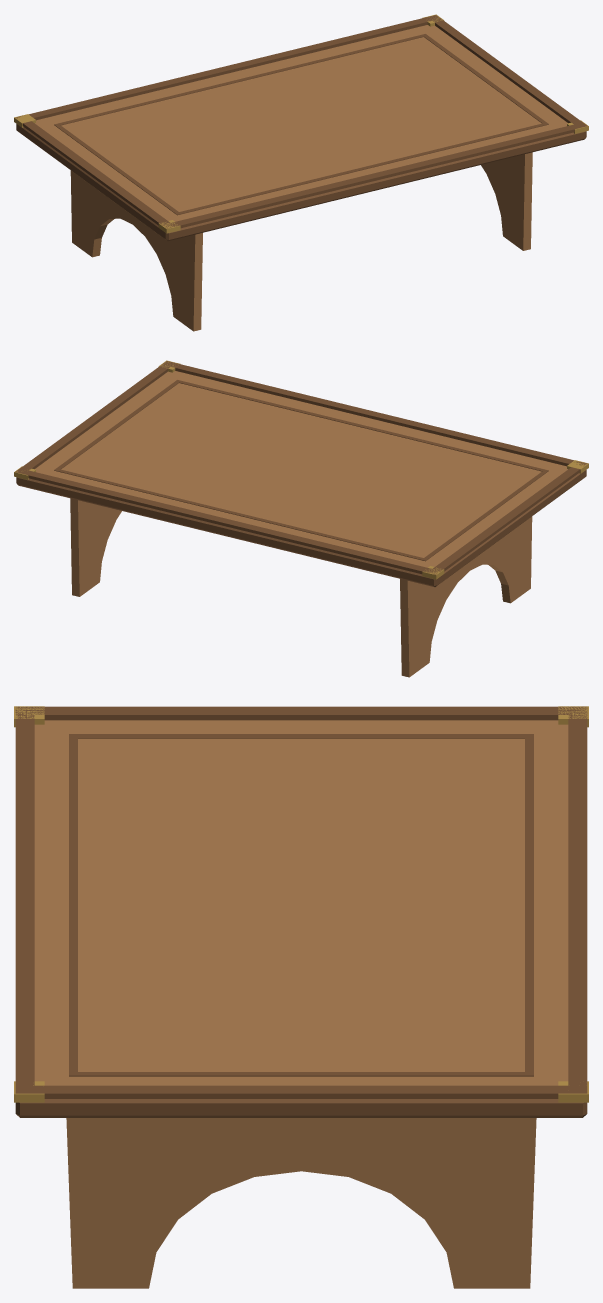
The model's file is SC_Home_Low_Table_Folding.gltf.
3 renders of one model, top to bottom at view 1: azimuth 30°, elevation 25°; view 2: azimuth 150°, elevation 25°; view 3: azimuth 270°, elevation 25°, orthographic. The views are drawn at different scales.
Parts seen in each view (by area): view 1: SC_Home_Low_Table_Folding; view 2: SC_Home_Low_Table_Folding; view 3: SC_Home_Low_Table_Folding.
Part boxes in pixels (box(x1,y1,x2,y2)): SC_Home_Low_Table_Folding: box(14, 14, 588, 331); SC_Home_Low_Table_Folding: box(14, 360, 588, 677); SC_Home_Low_Table_Folding: box(14, 706, 588, 1288).
Bounding box in the file's own units: 1.2 × 0.338 × 0.754.
1 material, 1 textured.
